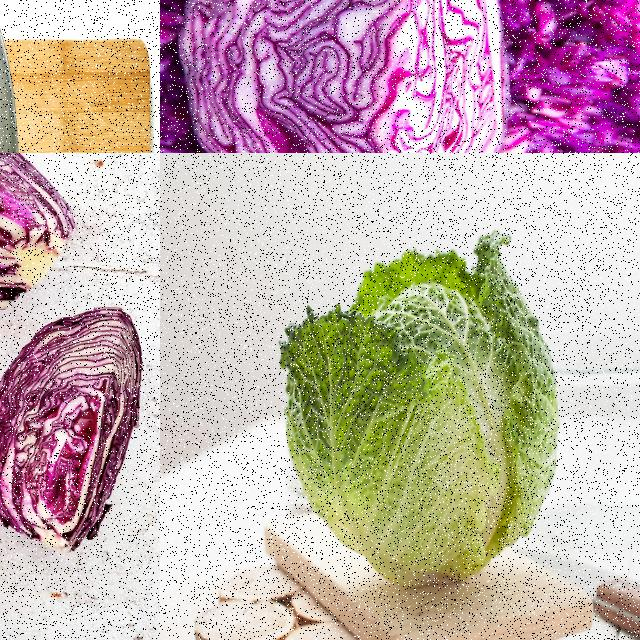cabbage: (274, 225, 562, 592), (180, 0, 511, 152), (0, 304, 149, 555), (0, 153, 80, 314)
